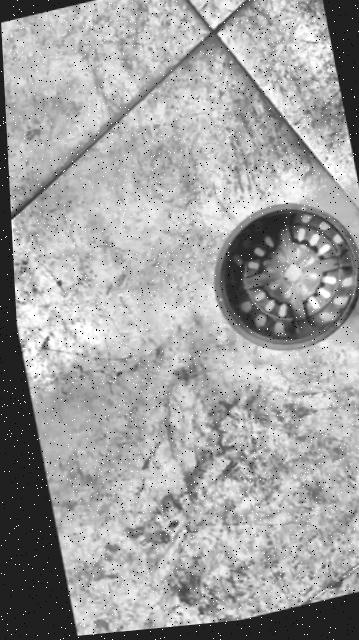pot: (198, 187, 359, 367)
